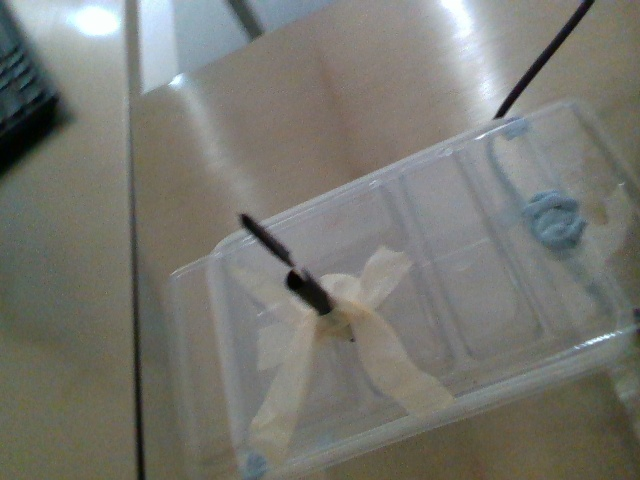test_strip: (235, 212, 303, 280)
